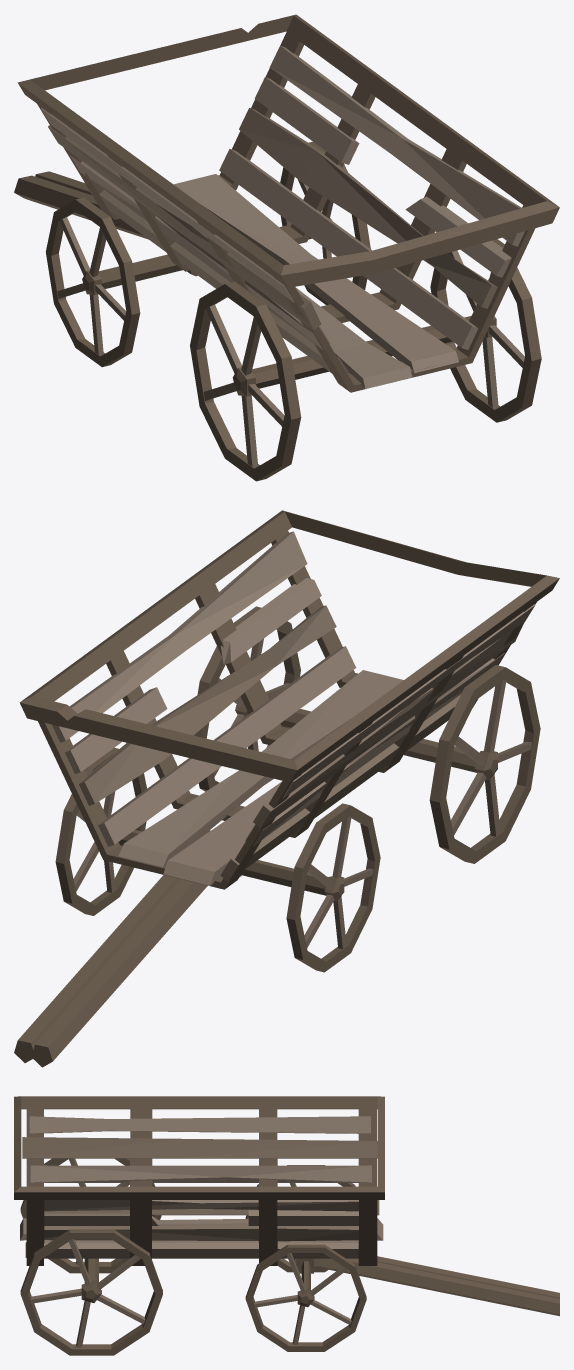
File: cart_2.glb
The picture shows the model from 3 angles, top to bottom: view 1: azimuth 30°, elevation 25°; view 2: azimuth 150°, elevation 25°; view 3: azimuth 270°, elevation 25°; orthographic projection. The views are drawn at different scales.
Parts seen in each view (by area): view 1: cart_2; view 2: cart_2; view 3: cart_2.
Part boxes in pixels (x1=…): cart_2: x1=14, y1=14, x2=559, y2=481; cart_2: x1=14, y1=510, x2=559, y2=1067; cart_2: x1=14, y1=1096, x2=559, y2=1355.
Size of the model in its own units: 0.6638 by 0.5548 by 1.6.
1 material, 1 textured.
